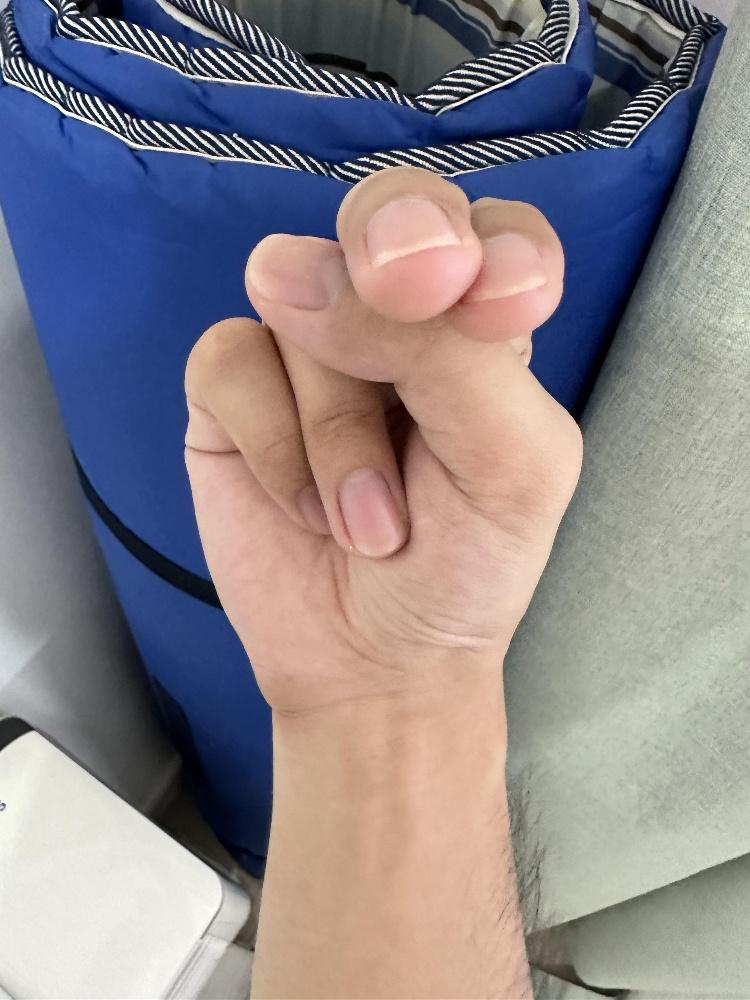n: (179, 162, 588, 718)
